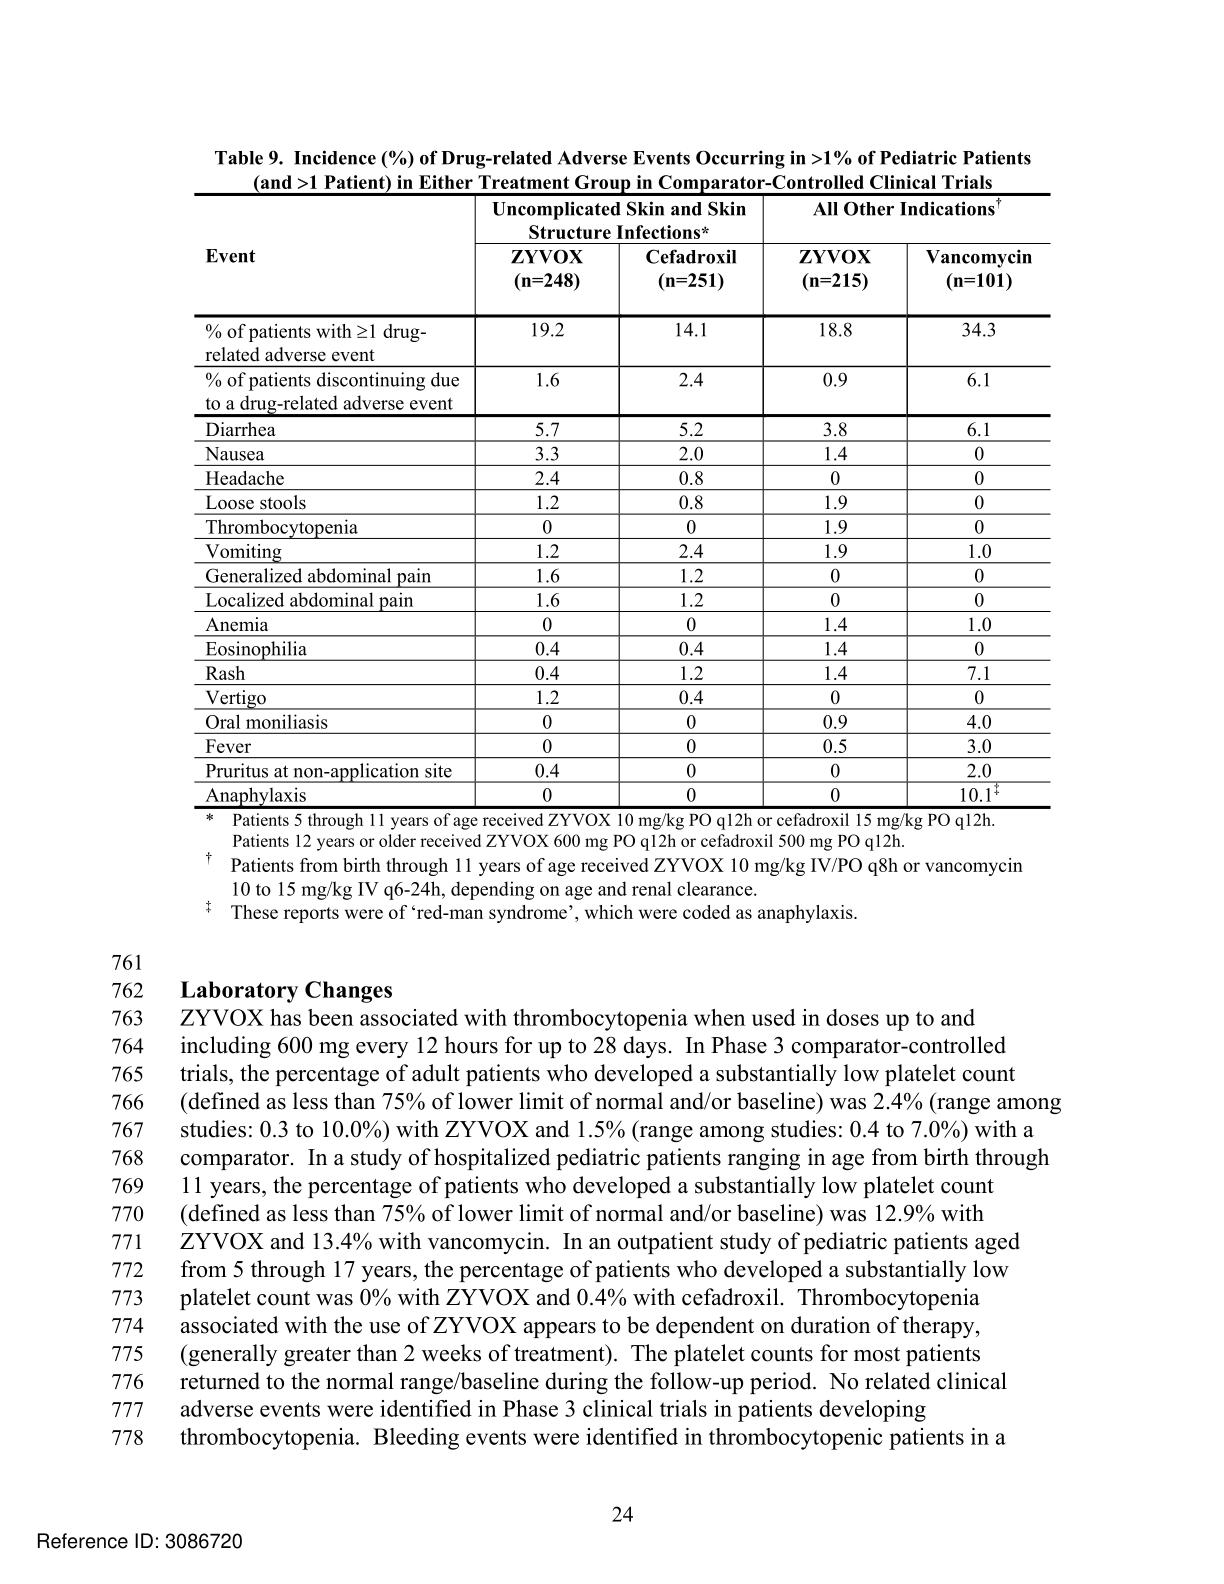partial_lined_merged_cells: (193, 190, 1053, 811)
